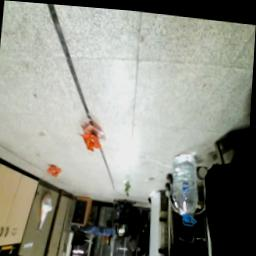herb: (126, 180, 135, 197)
wild: (80, 129, 107, 153), (47, 164, 65, 179)
